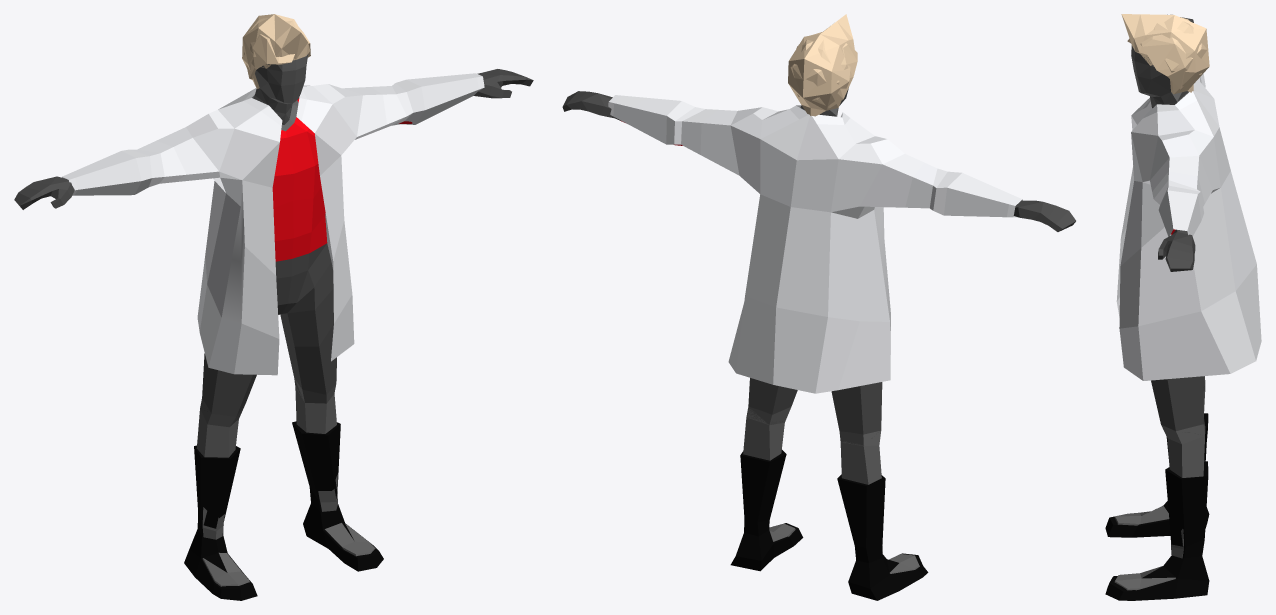
File: scientist_naive.fbx
3 views of the same model, side by side, from view 1: azimuth 30°, elevation 25°; view 2: azimuth 150°, elevation 25°; view 3: azimuth 270°, elevation 25° (orthographic).
Parts seen in each view (by area): view 1: Torso Male Long Sleeves.001, Shorts Male, Pants Male, Torso Male Long Sleeves, Head 1 Male Hair 1, Head 1 Male Hair 2, Head 1 Male Hair 3, Head 1 Male Bald; view 2: Torso Male Long Sleeves.001, Pants Male, Shorts Male, Head 1 Male Hair 1, Torso Male Long Sleeves, Head 1 Male Hair 2; view 3: Torso Male Long Sleeves.001, Pants Male, Shorts Male, Head 1 Male Hair 1, Head 1 Male Hair 2, Torso Male Long Sleeves, Head 1 Male Hair 3, Head 1 Male Bald.
Part boxes in pixels (bbox=[...]): Torso Male Long Sleeves.001: bbox=[62, 73, 484, 375]; Shorts Male: bbox=[196, 243, 375, 586]; Pants Male: bbox=[184, 379, 383, 600]; Torso Male Long Sleeves: bbox=[14, 69, 533, 261]; Head 1 Male Hair 1: bbox=[242, 14, 310, 124]; Head 1 Male Hair 2: bbox=[244, 18, 310, 79]; Head 1 Male Hair 3: bbox=[255, 55, 307, 102]; Head 1 Male Bald: bbox=[253, 80, 305, 113]; Torso Male Long Sleeves.001: bbox=[608, 95, 1022, 393]; Pants Male: bbox=[730, 407, 928, 600]; Shorts Male: bbox=[743, 378, 919, 573]; Head 1 Male Hair 1: bbox=[788, 14, 854, 116]; Torso Male Long Sleeves: bbox=[562, 91, 1075, 231]; Head 1 Male Hair 2: bbox=[790, 32, 857, 108]; Torso Male Long Sleeves.001: bbox=[1116, 73, 1261, 380]; Pants Male: bbox=[1105, 377, 1209, 600]; Shorts Male: bbox=[1114, 376, 1205, 590]; Head 1 Male Hair 1: bbox=[1121, 14, 1209, 108]; Head 1 Male Hair 2: bbox=[1127, 17, 1207, 89]; Torso Male Long Sleeves: bbox=[1158, 14, 1195, 271]; Head 1 Male Hair 3: bbox=[1131, 49, 1188, 104]; Head 1 Male Bald: bbox=[1134, 71, 1177, 107].
Bounding box in the file's own units: 176 × 179 × 46.22.
